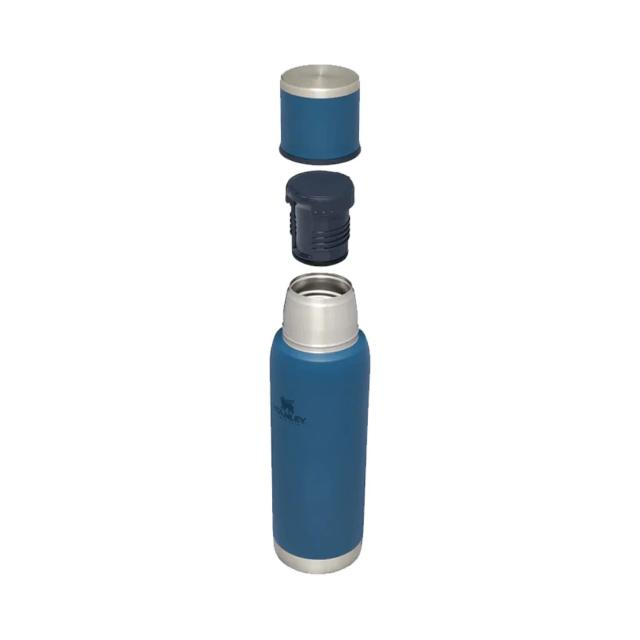Termos: (264, 270, 370, 576)
